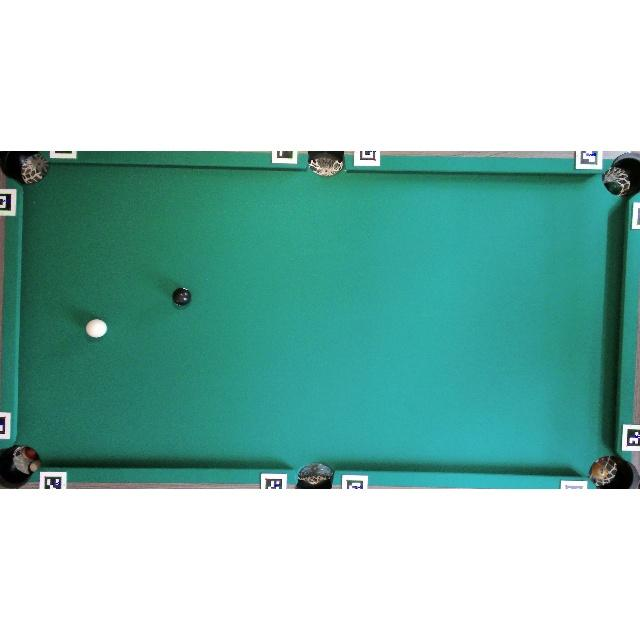cue ball: (84, 318, 108, 339)
other: (172, 287, 191, 306)
